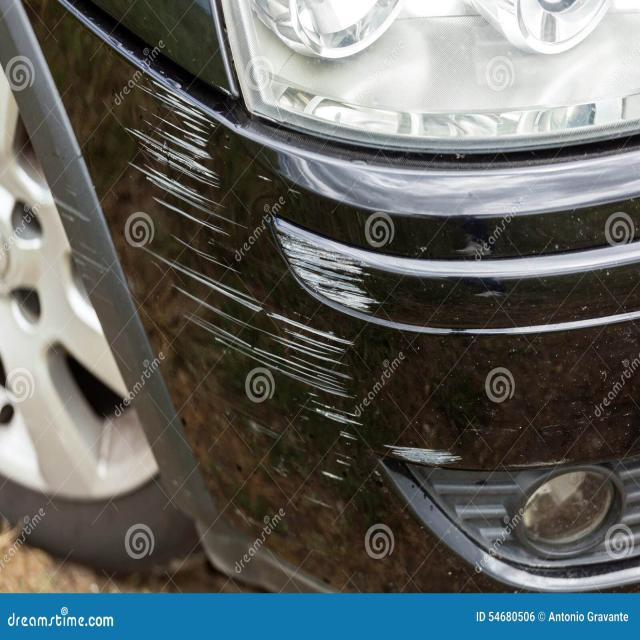scratch: (52, 47, 585, 548)
